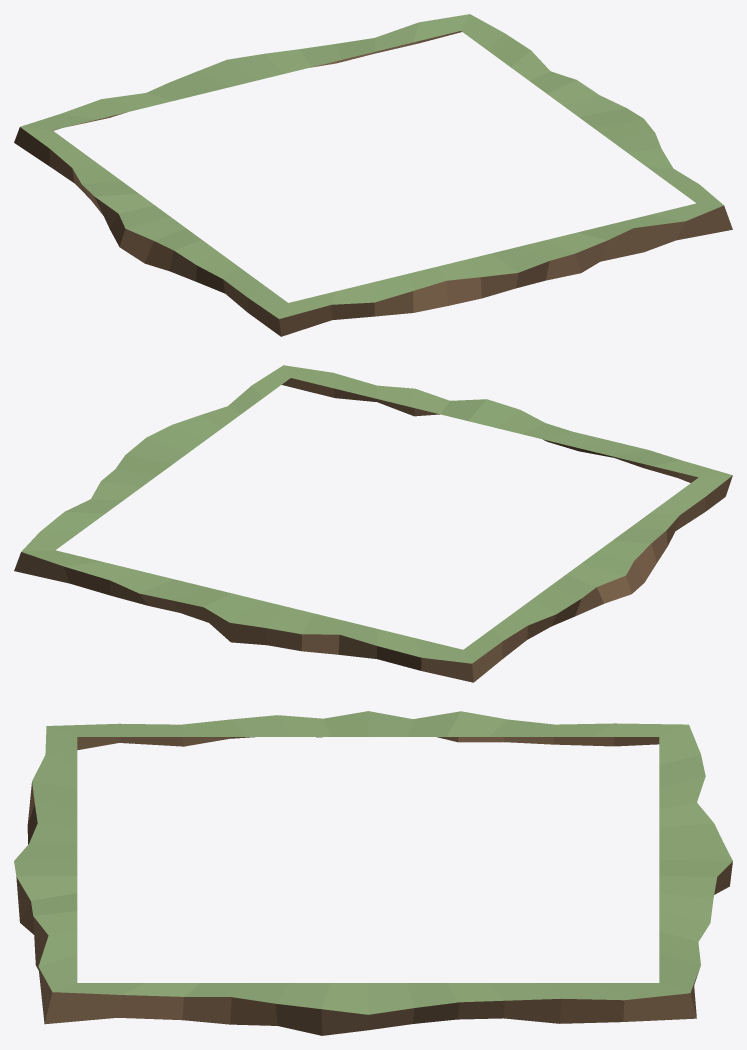
File: entorno_18.glb
3 renders of one model, top to bottom at view 1: azimuth 30°, elevation 25°; view 2: azimuth 150°, elevation 25°; view 3: azimuth 270°, elevation 25°, orthographic. The views are drawn at different scales.
Visible parts, largest first — view 1: bosque_entorno_18; view 2: bosque_entorno_18; view 3: bosque_entorno_18.
Part boxes in pixels (x1,y1,x2,y2): bosque_entorno_18: (14,14,732,336); bosque_entorno_18: (14,365,732,682); bosque_entorno_18: (14,711,732,1035).
Bounding box in the file's own units: 22.6 × 1.07 × 22.49.
